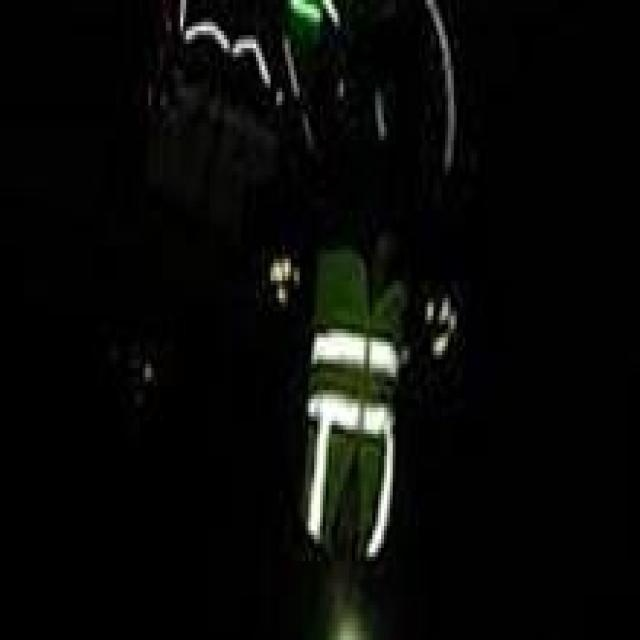Con_Chaleco: (305, 243, 411, 552)
